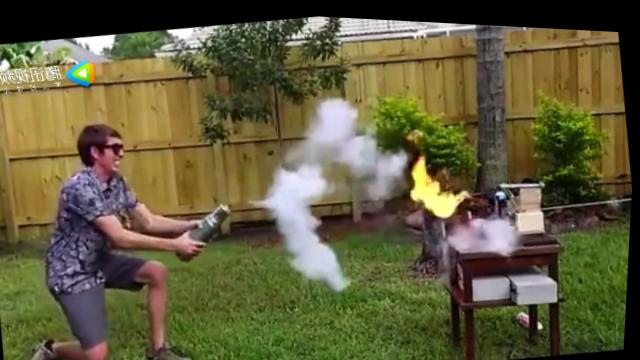fire: (422, 185, 470, 215), (411, 149, 440, 194)
